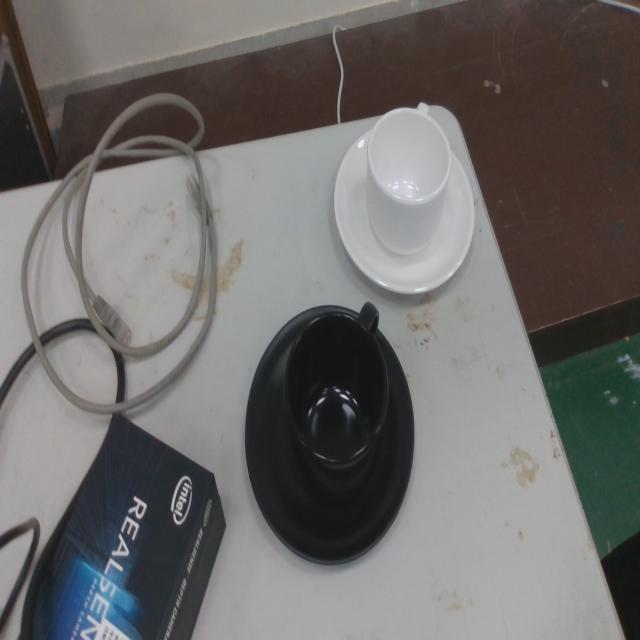black: (242, 299, 417, 573)
white: (331, 99, 477, 299)
